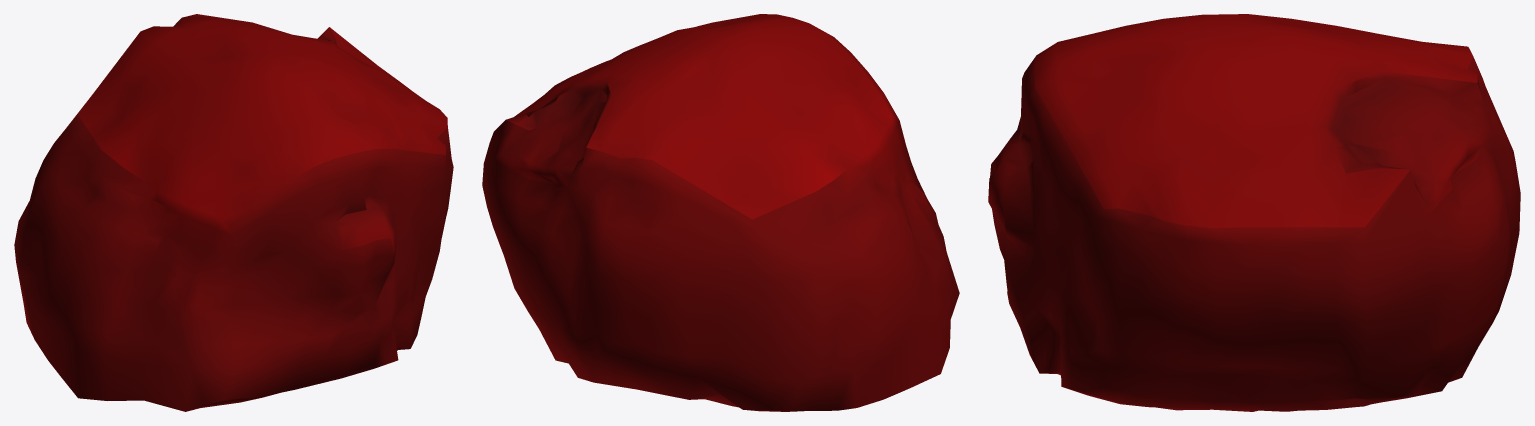
Rendered from geology-rocks-sharprock_v5.fbx.
3 renders of one model, left to right at view 1: azimuth 30°, elevation 25°; view 2: azimuth 150°, elevation 25°; view 3: azimuth 270°, elevation 25°, orthographic. The views are drawn at different scales.
Parts seen in each view (by area): view 1: SharpRock_v5; view 2: SharpRock_v5; view 3: SharpRock_v5.
Boxes of the visible parts, left/top/right/bottom form: SharpRock_v5: left=14, top=14, right=453, bottom=411; SharpRock_v5: left=482, top=14, right=959, bottom=411; SharpRock_v5: left=988, top=14, right=1520, bottom=411.
Size of the model in its own units: 3.83 by 2.76 by 3.78.
